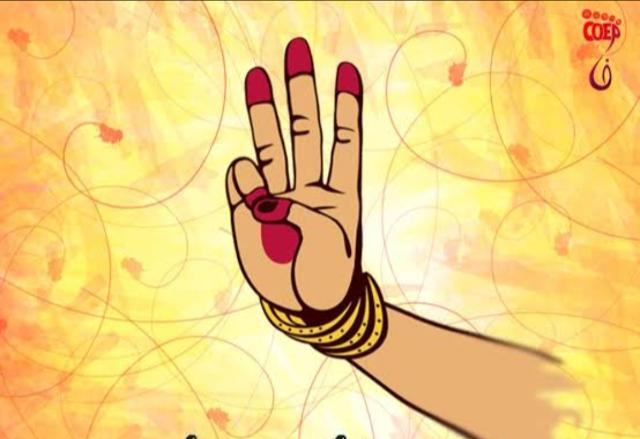trishool: (225, 37, 389, 363)
